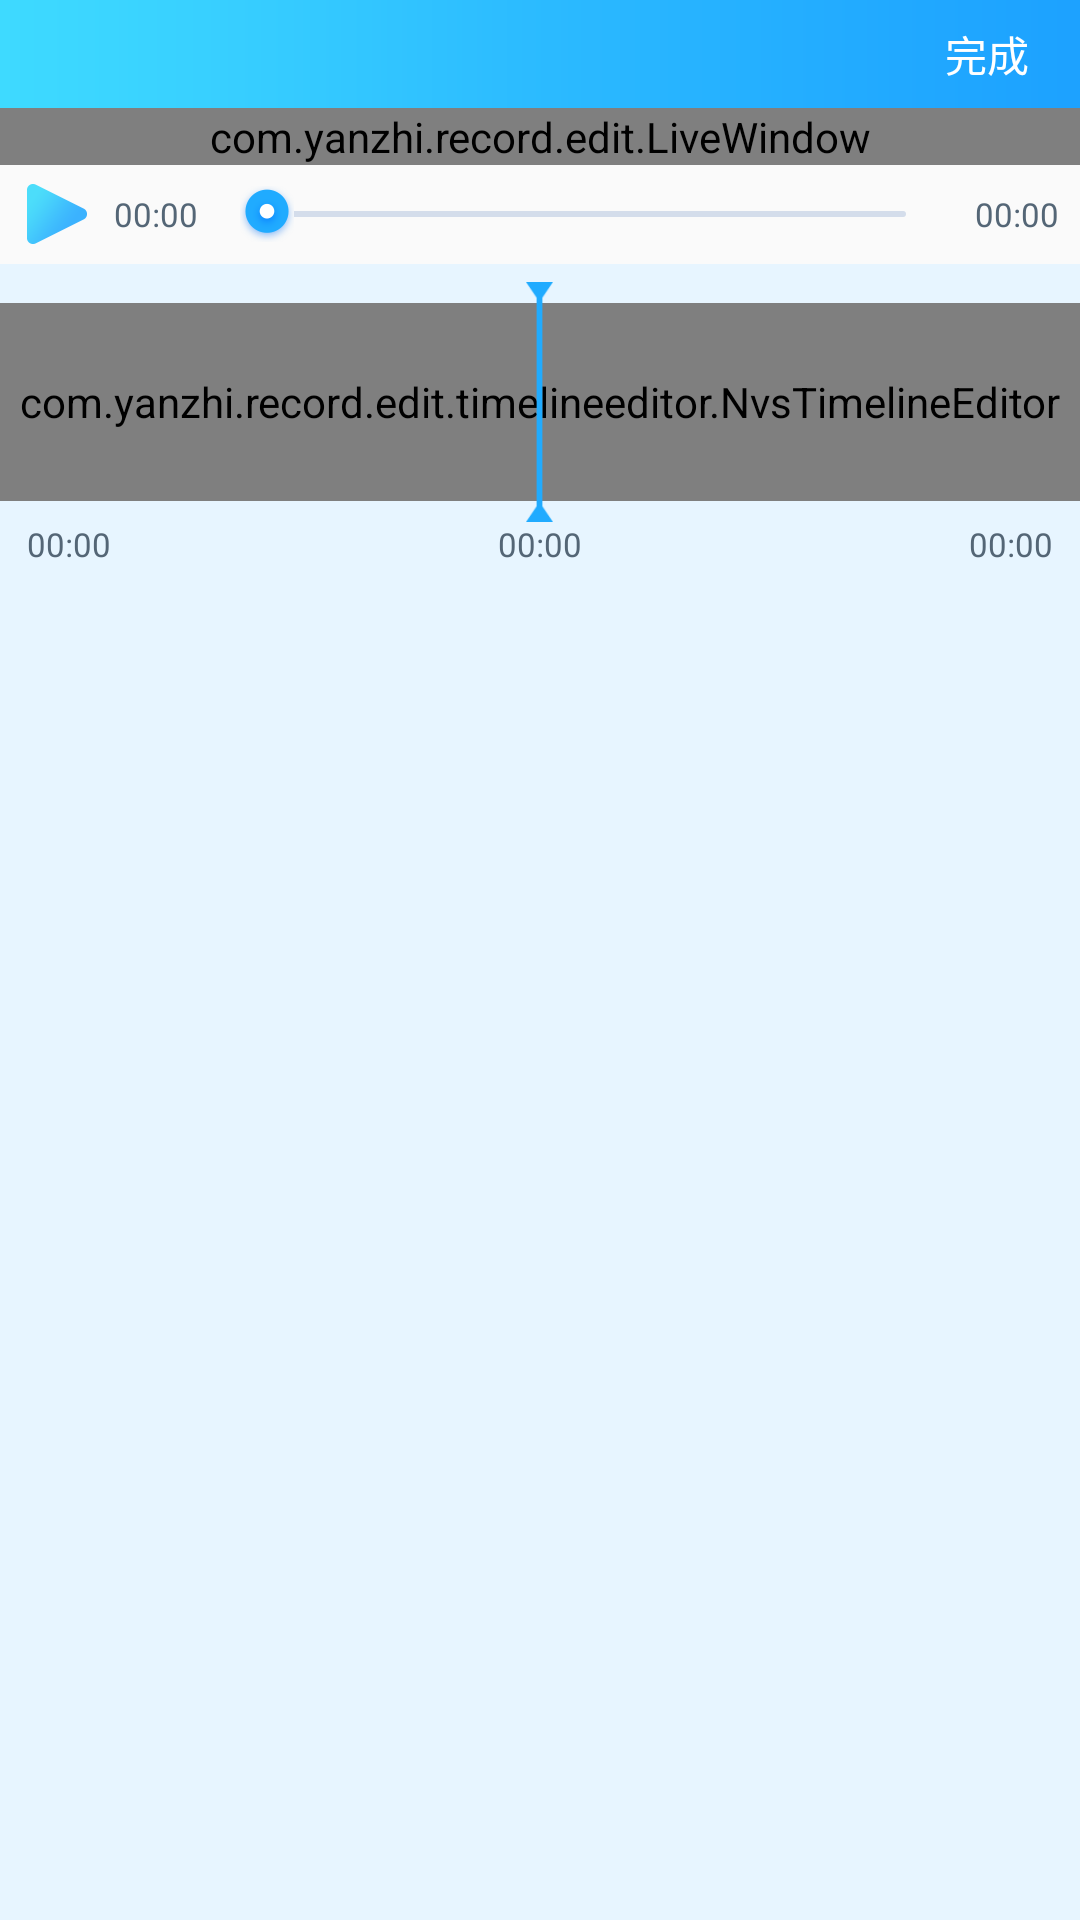

Icon click points for this 1080px×1920px phone screenshot, format [x,y]:
play: [57,214]
